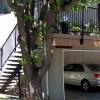stairs: (0, 52, 26, 96)
